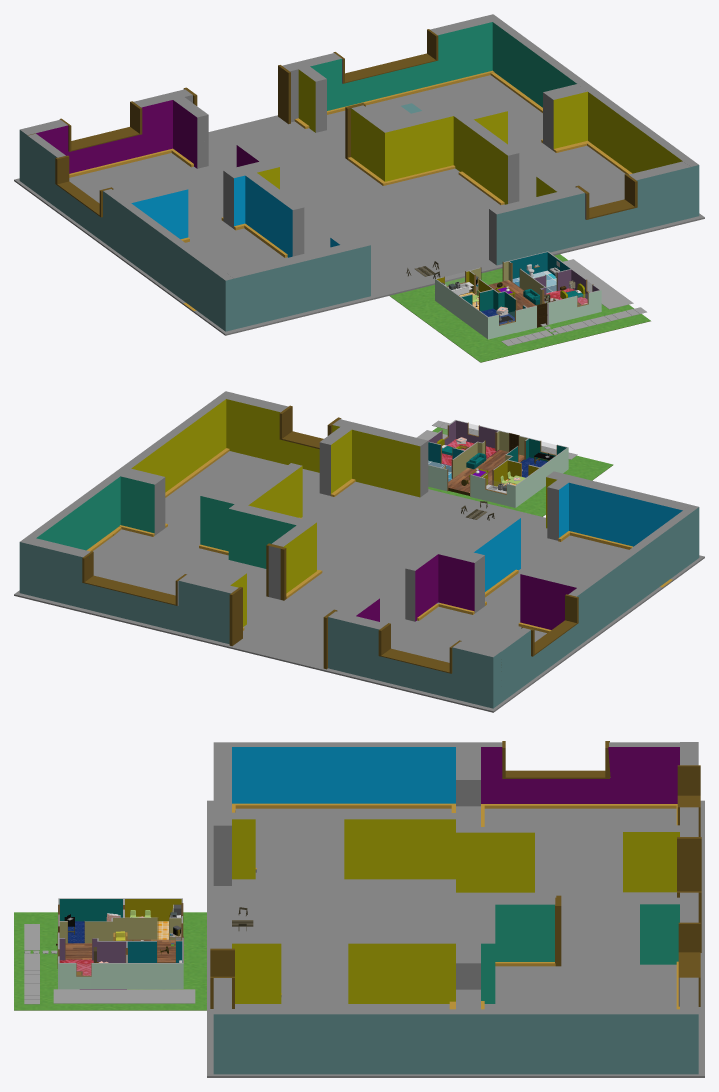
Rendered from yen.fbx.
3 renders of one model, top to bottom at view 1: azimuth 30°, elevation 25°; view 2: azimuth 150°, elevation 25°; view 3: azimuth 270°, elevation 25°, orthographic. The views are drawn at different scales.
Parts seen in each view (by area): view 1: pCube40, pCube56, pCube47, group50_pasted__pCube41, pasted__pasted__pasted__pCube60, pCube48; view 2: pCube40, group50_pasted__pCube41, pCube47, pCube56, pCube54, pCube48, pCube49; view 3: pCube40, pCube56, pCube47, group50_pasted__pCube41, pasted__pasted__pasted__pCube60, pCube48, pCube49, pCube54.
Boxes of the visible parts, x1,y1,x2,y2 form: pCube40: (14,14,704,335); pCube56: (390,254,650,362); pCube47: (503,251,601,324); group50_pasted__pCube41: (435,267,515,339); pasted__pasted__pasted__pCube60: (563,259,633,309); pCube48: (478,279,515,317); pCube40: (14,391,704,712); group50_pasted__pCube41: (470,445,568,507); pCube47: (427,420,508,490); pCube56: (428,427,613,516); pCube54: (448,450,524,495); pCube48: (493,446,520,486); pCube49: (452,441,484,478); pCube40: (207,741,704,1077); pCube56: (14,912,206,1010); pCube47: (58,932,183,989); group50_pasted__pCube41: (58,898,182,939); pasted__pasted__pasted__pCube60: (53,989,195,1003); pCube48: (85,909,157,943); pCube49: (92,938,156,962); pCube54: (65,939,181,962).
Size of what is drawn, in the model's own units: 851 by 105 by 902.
